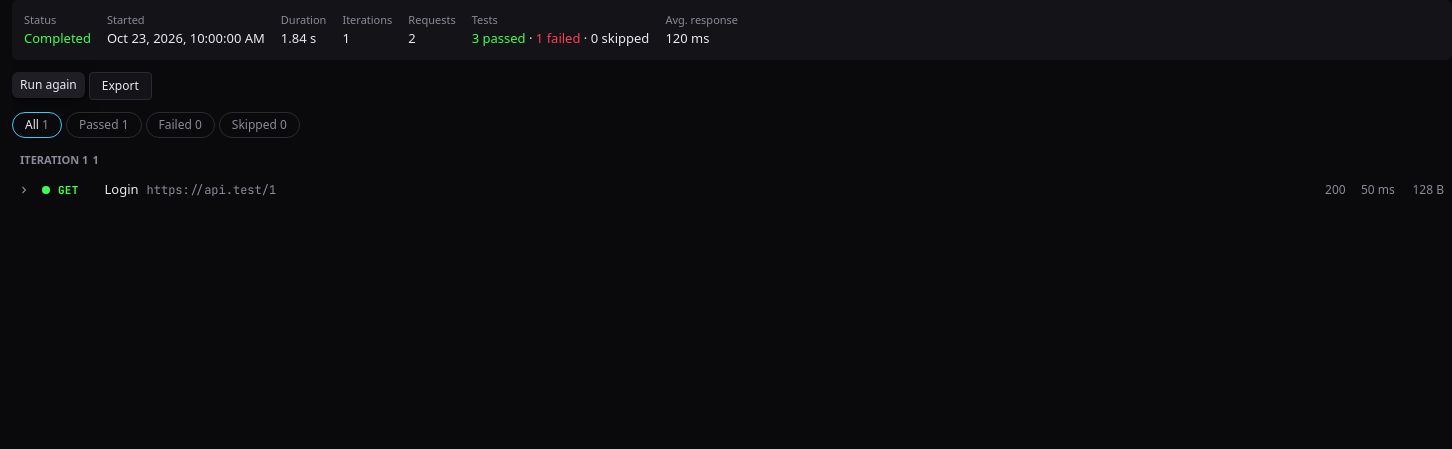
it: RunResults › notes a persisted response this session no longer holds
The image size is (1452, 449).
Click the button "Login" at (122, 190), box [104,180,139,200]
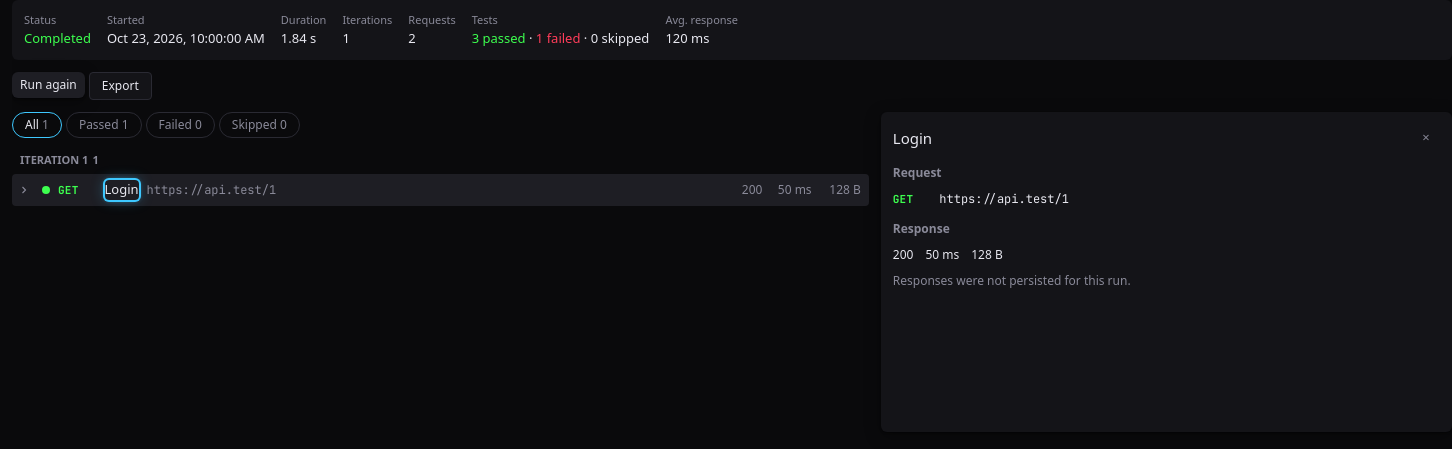
Expected: the text "Responses were not persisted for this run." is shown, [893,272,1131,289]
